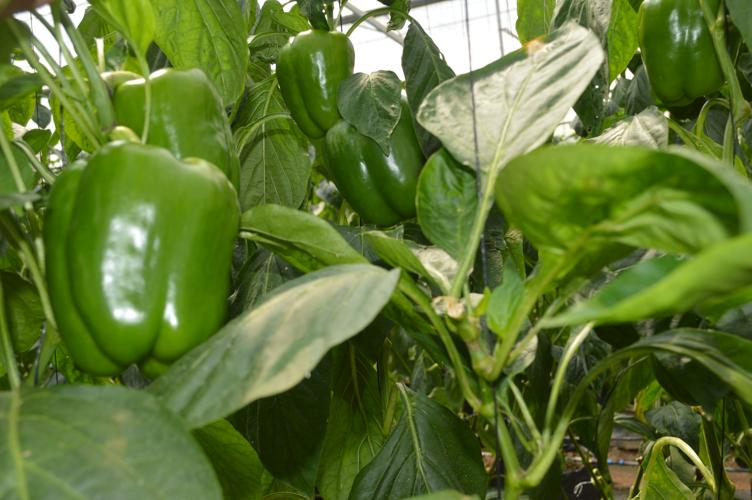BellPepper: (38, 142, 237, 370), (115, 66, 244, 185), (324, 108, 422, 220), (277, 24, 357, 135), (641, 7, 720, 119)
